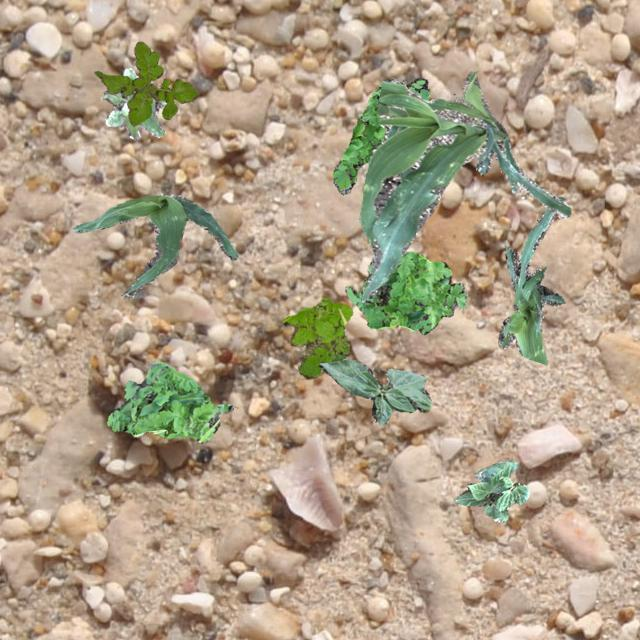crop: (358, 70, 570, 300), (72, 192, 236, 296), (496, 195, 564, 364), (318, 358, 430, 424), (454, 460, 528, 520)
weed: (332, 76, 428, 194), (105, 361, 232, 442), (344, 250, 466, 334), (94, 41, 198, 126), (282, 298, 352, 378), (100, 66, 166, 138)
